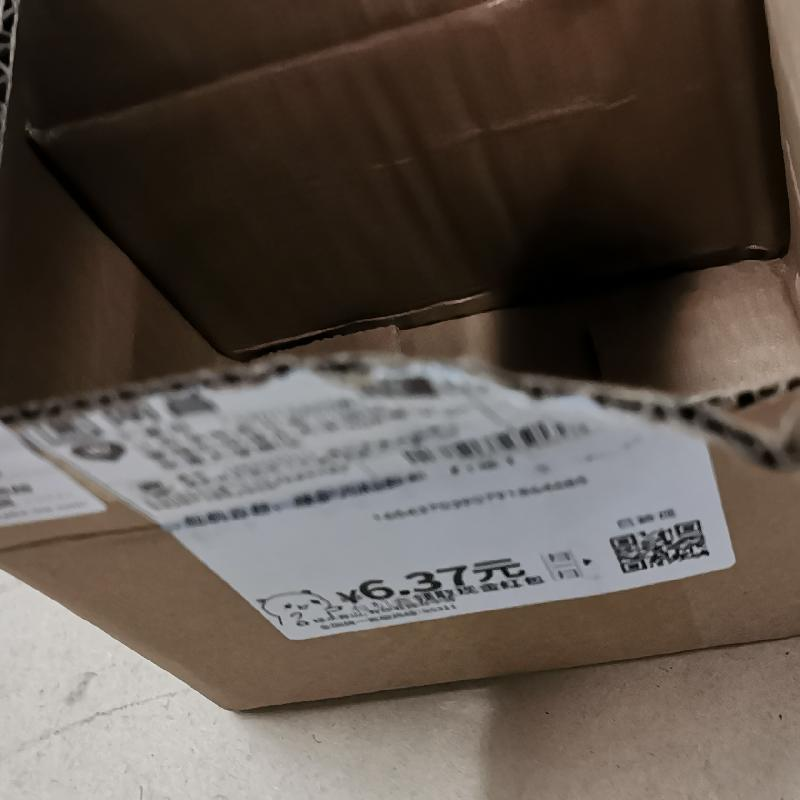boxes: (6, 0, 799, 799)
